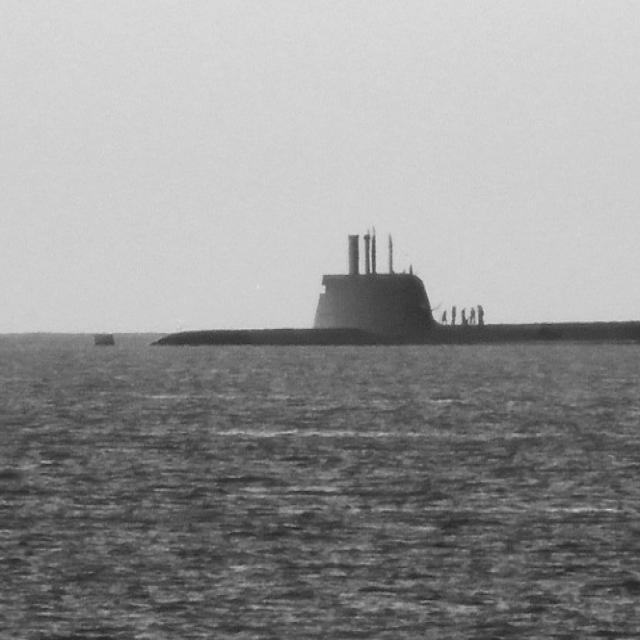submarine: (100, 221, 640, 348)
